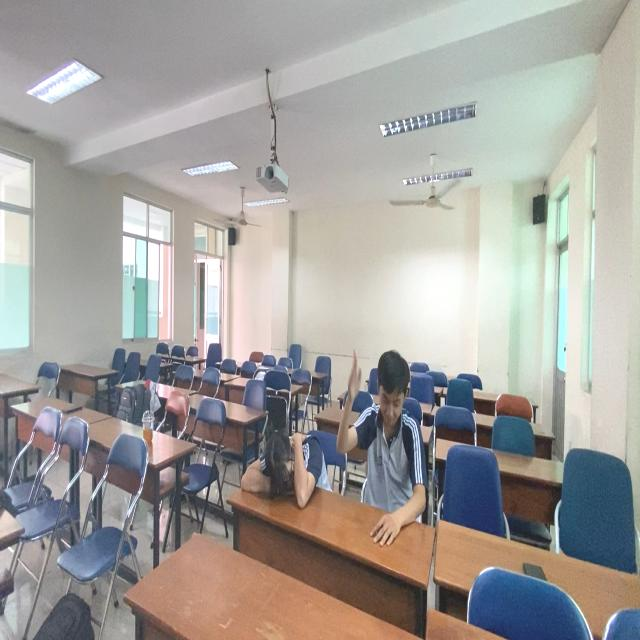raise_hand: (341, 343, 419, 531)
sleep: (240, 419, 329, 519)
